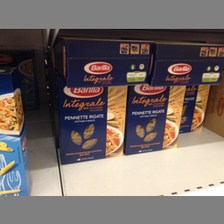pasta: (56, 78, 127, 165), (125, 85, 187, 156)
